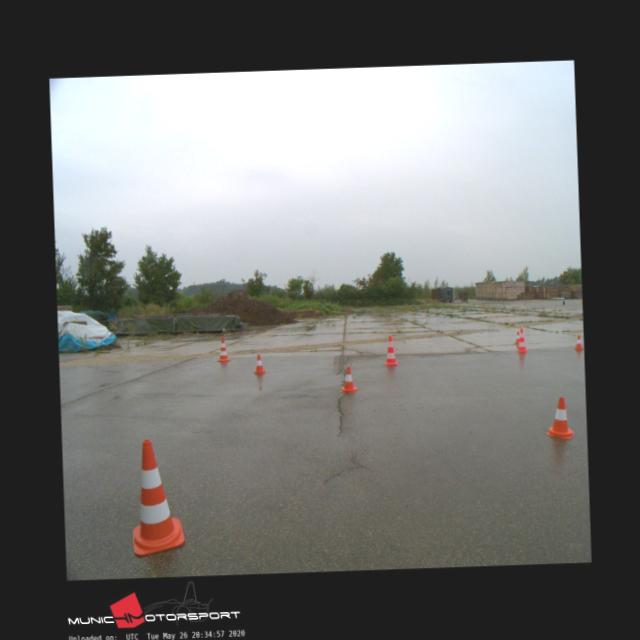large_orange_cone: (129, 438, 184, 554), (382, 334, 398, 364), (216, 337, 230, 360), (516, 327, 526, 351)
orange_cone: (546, 397, 574, 438), (339, 366, 357, 392), (253, 353, 264, 372), (573, 334, 583, 349), (514, 330, 521, 342)
